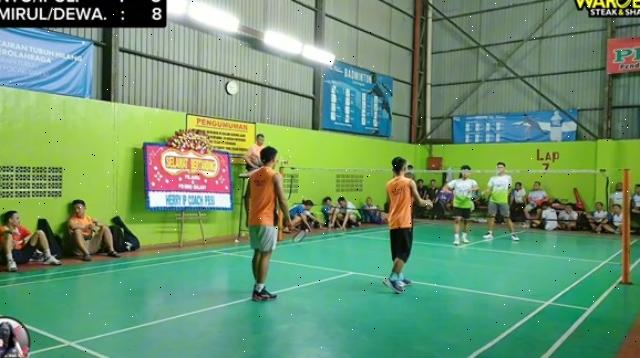Shuttlecock: (467, 192, 475, 202)
